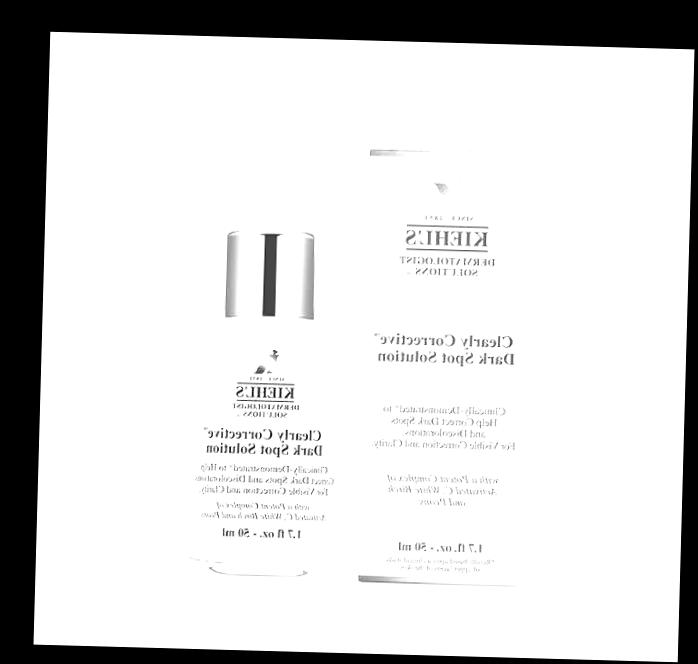cosmetic: (190, 154, 336, 565)
